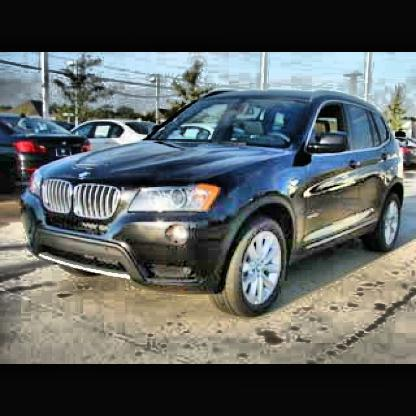BMW X3 SUV 2012: (21, 92, 407, 319)
